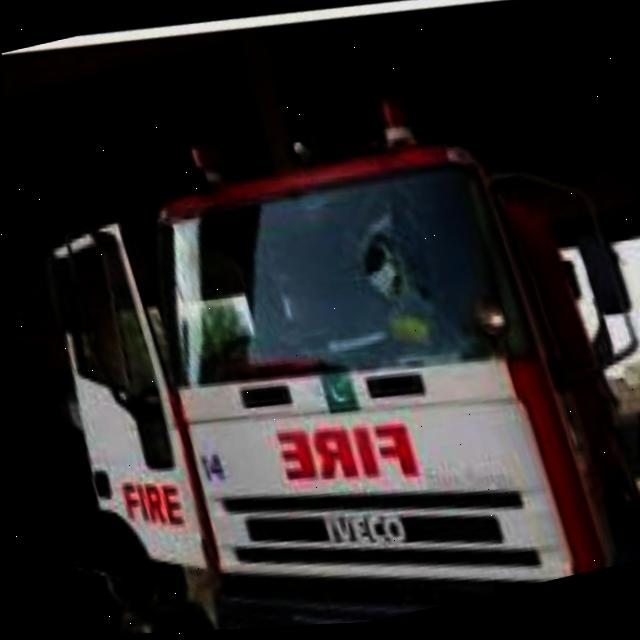emergency: (12, 47, 640, 640)
